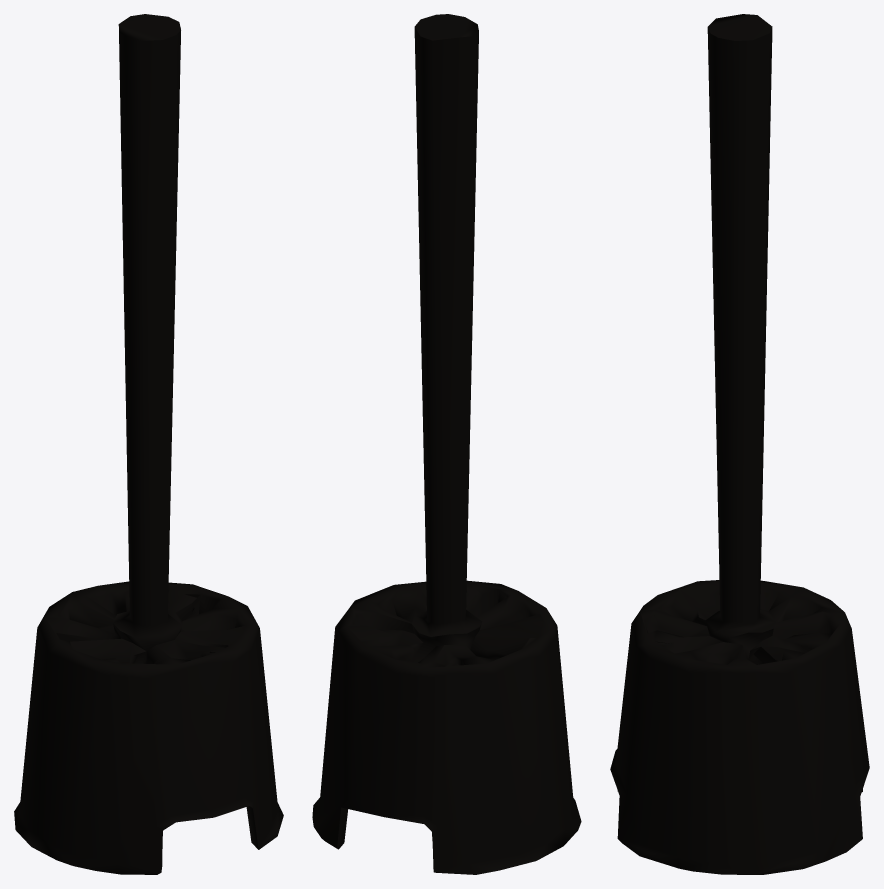
3 views of the same model, side by side, from view 1: azimuth 30°, elevation 25°; view 2: azimuth 150°, elevation 25°; view 3: azimuth 270°, elevation 25° (orthographic).
Visible parts, largest first — view 1: ASY_ART_90574433_S01_NV01; view 2: ASY_ART_90574433_S01_NV01; view 3: ASY_ART_90574433_S01_NV01.
Part boxes in pixels (x1,y1,x2,y2): ASY_ART_90574433_S01_NV01: [14, 14, 283, 874]; ASY_ART_90574433_S01_NV01: [312, 14, 581, 874]; ASY_ART_90574433_S01_NV01: [610, 14, 869, 874].
Size of the model in its own units: 0.1104 by 0.3583 by 0.1061.
1 material, 1 textured.
